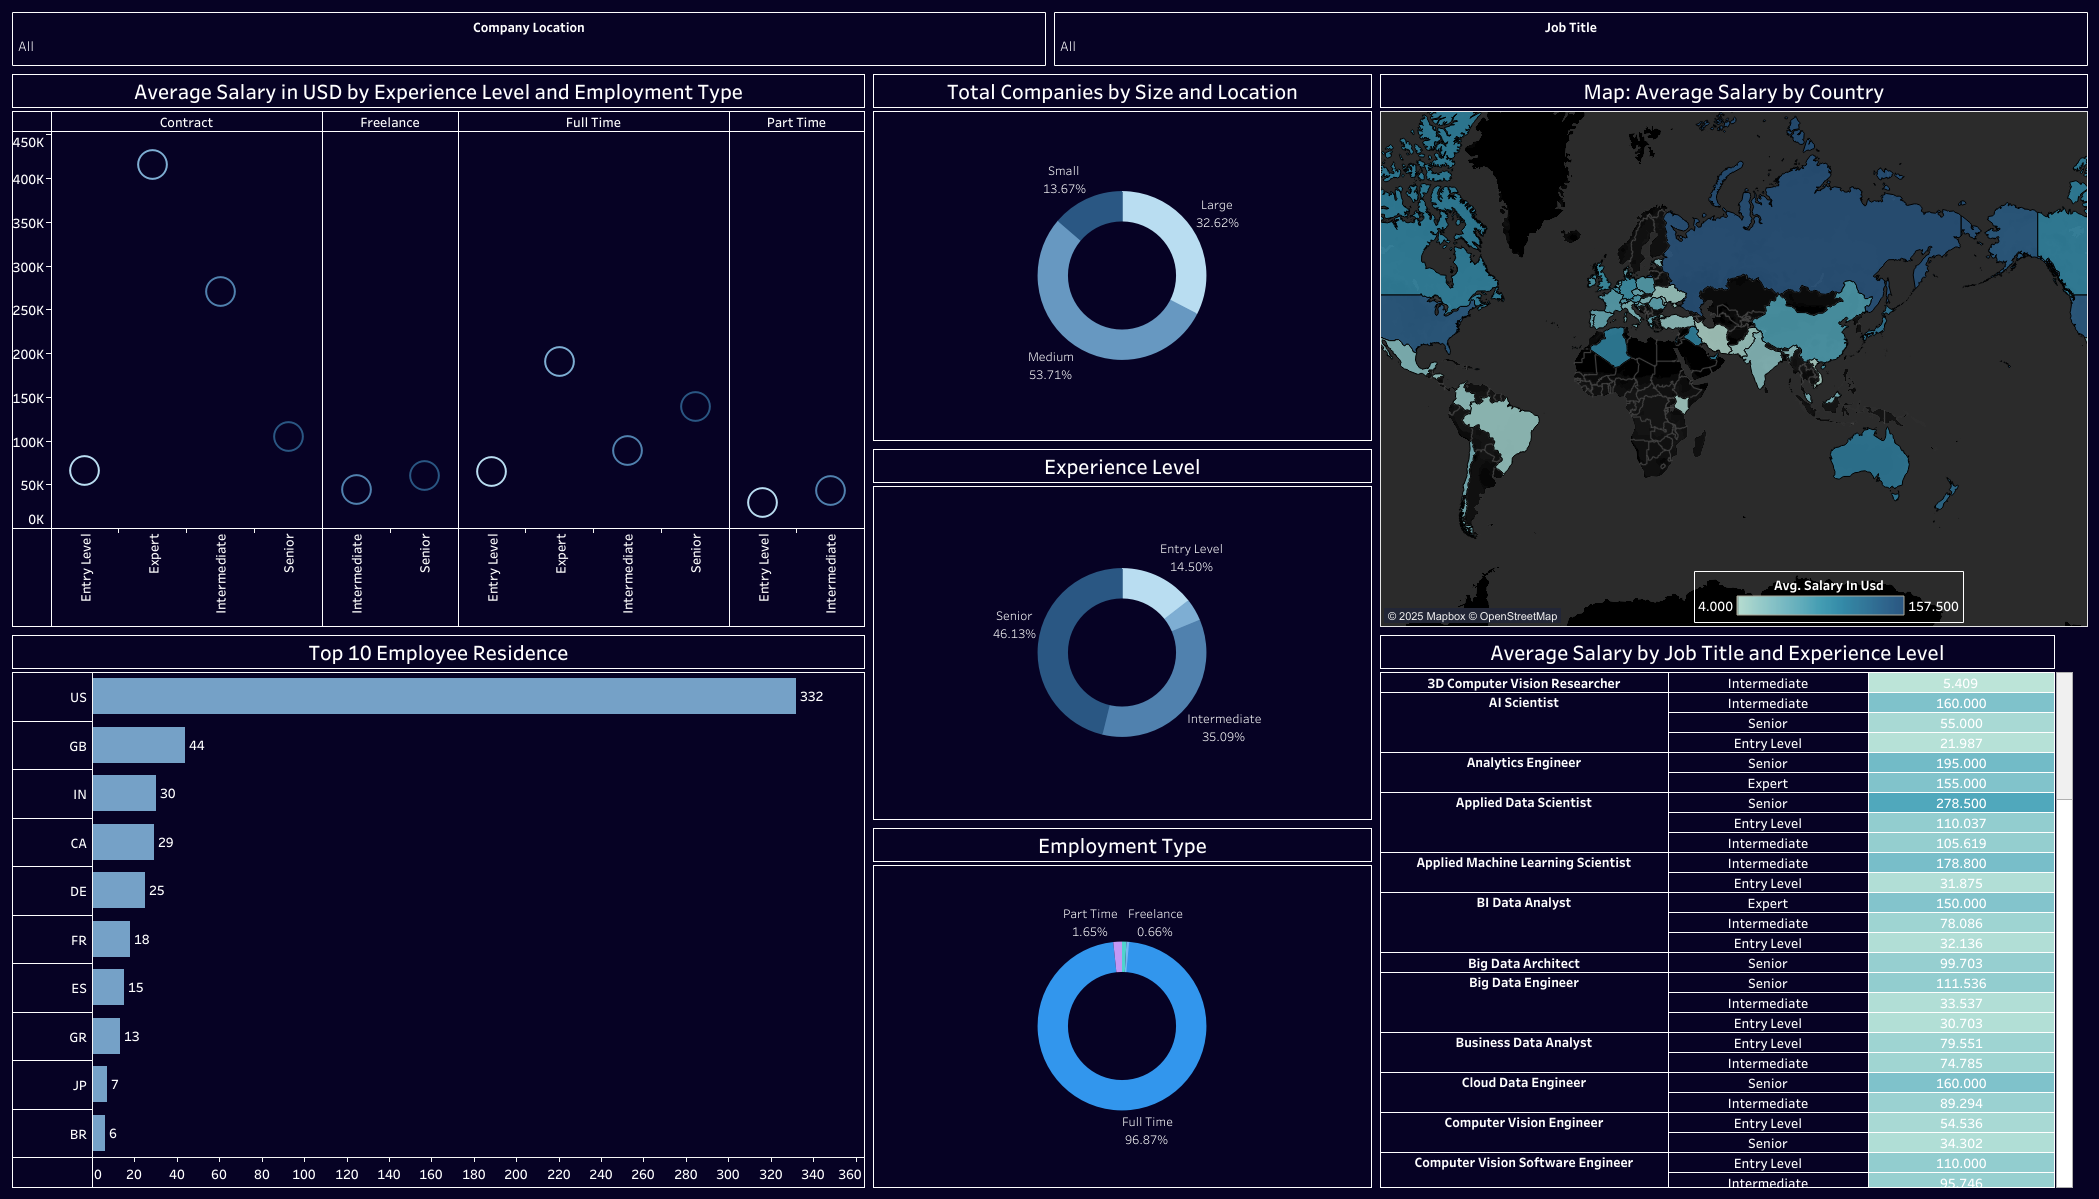

The dashboard page shown, as its layout file describes it:
{"tool":"tableau","page":{"name":"Dashboard 1","canvas":[2100,1200],"ordinal":0},"visuals":[{"type":"filter","title":"Total Companies by Size and Location","param":"[federated.1dh137b0zfg22a192jxc10daoky5].[none:company_location:nk]","box":[8,8,1042,61]},{"type":"filter","title":"Map: Average Salary by Country","param":"[federated.1dh137b0zfg22a192jxc10daoky5].[none:job_title:nk]","box":[1050,8,1042,62]},{"type":"worksheet","title":"Average Salary in USD by Experience Level and Employment Type","mark":"Shape","rows":["salary_in_usd"],"cols":["employment_type","experience_level"],"box":[8,70,861,561]},{"type":"worksheet","title":"Total Companies by Size and Location","mark":"Pie","rows":["Calculation_466685528278626305","Calculation_466685528279080963"],"box":[869,70,507,375.3]},{"type":"worksheet","title":"Map: Average Salary by Country","mark":"Automatic","box":[1376,70,716,561]},{"type":"worksheet","title":"Experience Level","mark":"Pie","rows":["Calculation_466685528278626305","Calculation_466685528279080963"],"box":[869,445.3,507,378.4]},{"type":"legend","title":"Map: Average Salary by Country","param":"[federated.1dh137b0zfg22a192jxc10daoky5].[avg:salary_in_usd:qk]","box":[1694,571,270,52]},{"type":"worksheet","title":"Top 10 Employee Residence","mark":"Automatic","rows":["employee_residence"],"cols":["employee_residence"],"box":[8,631,861,561]},{"type":"worksheet","title":"Average Salary by Job Title and Experience Level","mark":"Square","rows":["job_title","experience_level"],"box":[1376,631,716,561]},{"type":"worksheet","title":"Employment Type","mark":"Pie","rows":["Calculation_466685528278626305","Calculation_466685528279080963"],"box":[869,823.7,507,368.3]}]}

Visuals, with their boxes in screenshot pixels (x1, y1, x2, y2), scaled from the page's 2100x1200 canvas onto the 2099x1199 screenshot:
"Total Companies by Size and Location" filter: left=8, top=8, right=1050, bottom=69
"Map: Average Salary by Country" filter: left=1050, top=8, right=2091, bottom=70
"Average Salary in USD by Experience Level and Employment Type" worksheet (Shape marks): left=8, top=70, right=869, bottom=630
"Total Companies by Size and Location" worksheet (Pie marks): left=869, top=70, right=1375, bottom=445
"Map: Average Salary by Country" worksheet: left=1375, top=70, right=2091, bottom=630
"Experience Level" worksheet (Pie marks): left=869, top=445, right=1375, bottom=823
"Map: Average Salary by Country" legend: left=1693, top=571, right=1963, bottom=622
"Top 10 Employee Residence" worksheet: left=8, top=630, right=869, bottom=1191
"Average Salary by Job Title and Experience Level" worksheet (Square marks): left=1375, top=630, right=2091, bottom=1191
"Employment Type" worksheet (Pie marks): left=869, top=823, right=1375, bottom=1191
